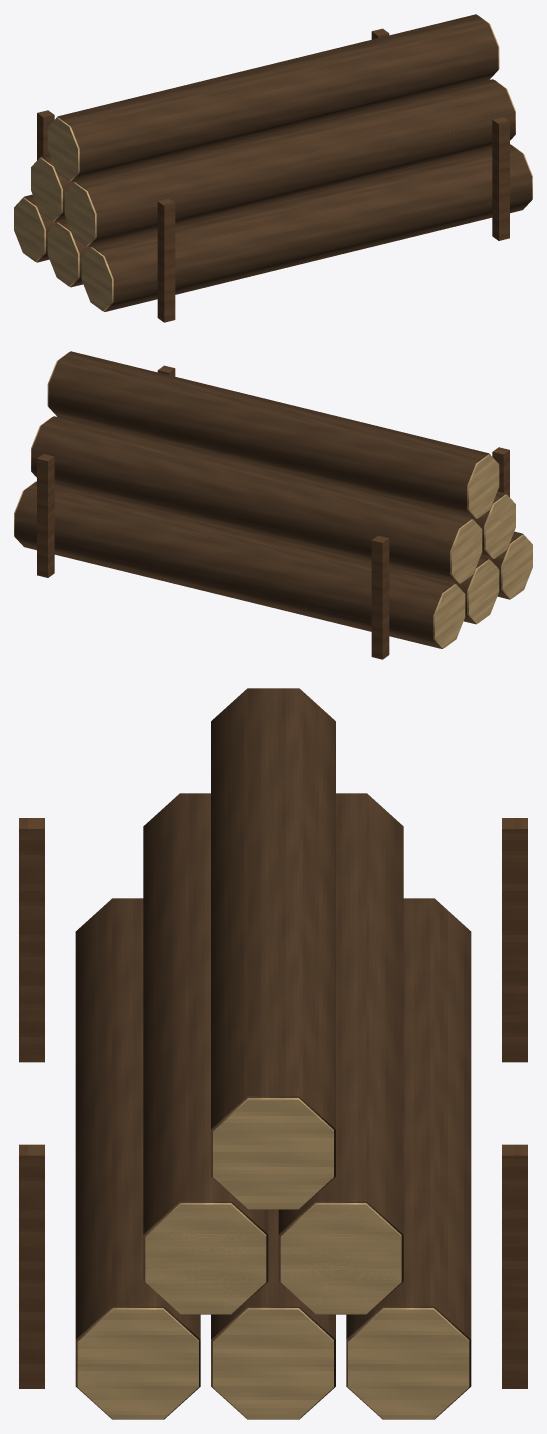
The model's file is toras_pilha.glb.
3 views of the same model, one above another, from view 1: azimuth 30°, elevation 25°; view 2: azimuth 150°, elevation 25°; view 3: azimuth 270°, elevation 25° (orthographic). The views are drawn at different scales.
Parts seen in each view (by area): view 1: Inteiro, Peca_03, Peca_04; view 2: Inteiro, Peca_04; view 3: Inteiro, Peca_04, Peca_03.
Boxes of the visible parts, x1,y1,x2,y2 form: Inteiro: [14, 14, 532, 322]; Peca_03: [64, 80, 515, 246]; Peca_04: [32, 158, 62, 221]; Inteiro: [14, 351, 532, 659]; Peca_04: [31, 416, 482, 579]; Inteiro: [19, 688, 527, 1419]; Peca_04: [280, 793, 403, 1314]; Peca_03: [145, 1204, 266, 1313].
Size of the model in its own units: 3.02 by 1.12 by 1.58.
Materials: 1 (1 with a texture image).
